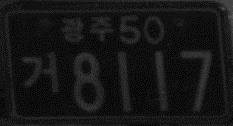0: (142, 14, 165, 46)
1: (115, 49, 135, 114), (153, 49, 171, 112)
5: (117, 13, 142, 44)
7: (178, 48, 213, 112)
8: (72, 52, 105, 113)
거: (21, 51, 60, 95)
광주_O: (60, 14, 115, 44)
